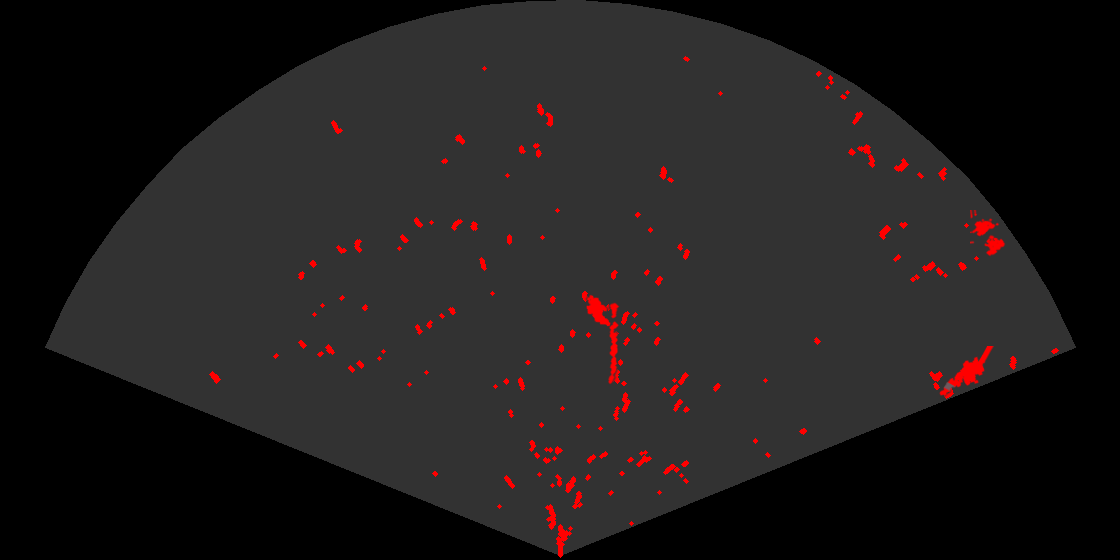AUV: (585, 293, 612, 328)
cage: (970, 210, 1007, 258)
chain: (607, 302, 621, 385)
frogman: (938, 346, 994, 398)
